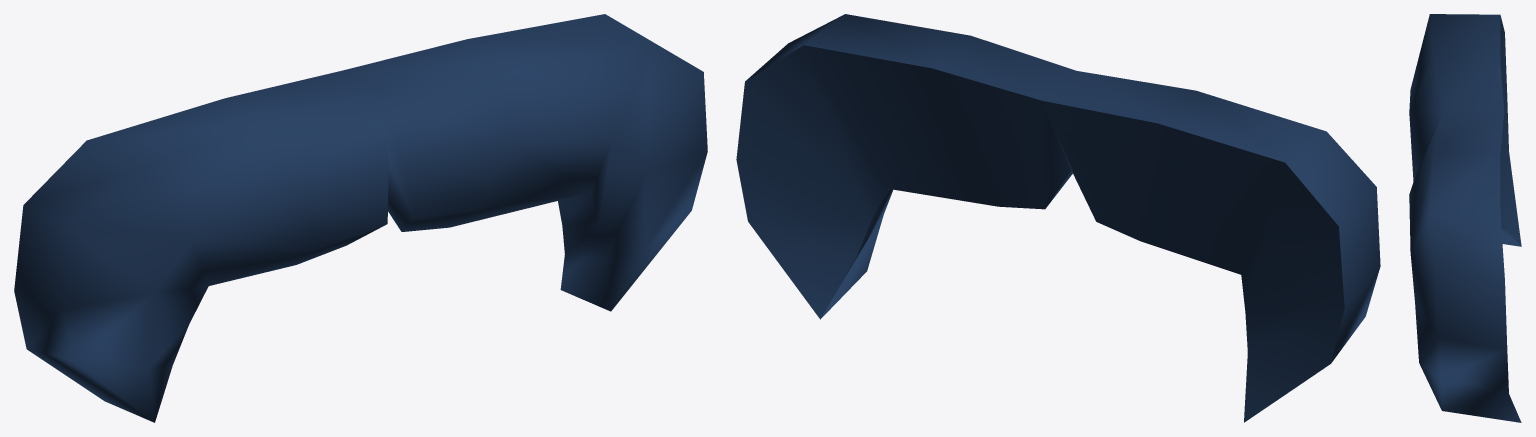
The model's file is Beard_Blue_5.fbx.
3 renders of one model, left to right at view 1: azimuth 30°, elevation 25°; view 2: azimuth 150°, elevation 25°; view 3: azimuth 270°, elevation 25°, orthographic. The views are drawn at different scales.
Parts seen in each view (by area): view 1: Beard_Blue_5; view 2: Beard_Blue_5; view 3: Beard_Blue_5.
Boxes of the visible parts, left/top/right/bottom form: Beard_Blue_5: left=14, top=14, right=707, bottom=422; Beard_Blue_5: left=736, top=14, right=1380, bottom=422; Beard_Blue_5: left=1409, top=14, right=1521, bottom=422.
Bounding box in the file's own units: 30.33 × 12.89 × 5.69.
